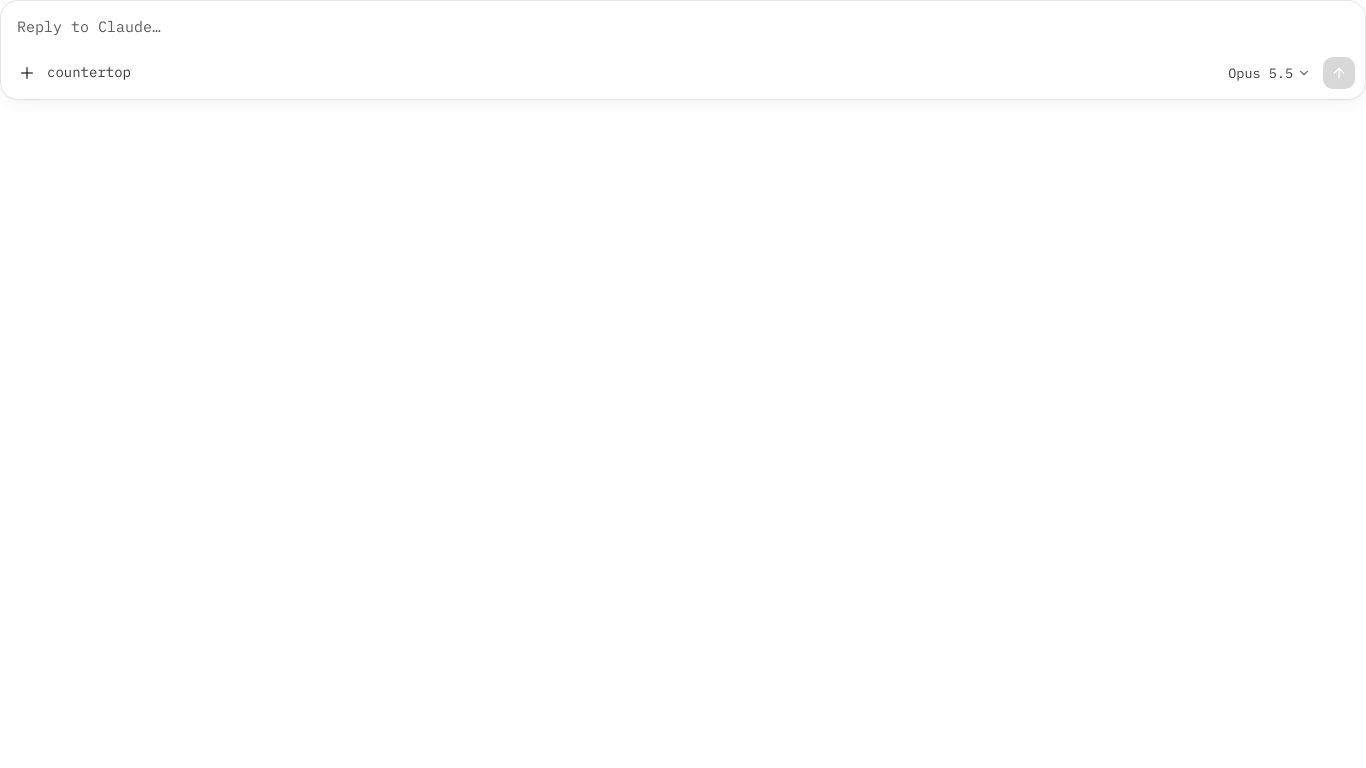
Test: the + menu › opens upward with a search box, grouped Checks · Outputs · Focus · Model, and estimates
Click the button named "Add a check or output" at coordinates (27, 73), box top-left (11, 57), bottom-right (43, 89)
(page scrolled)
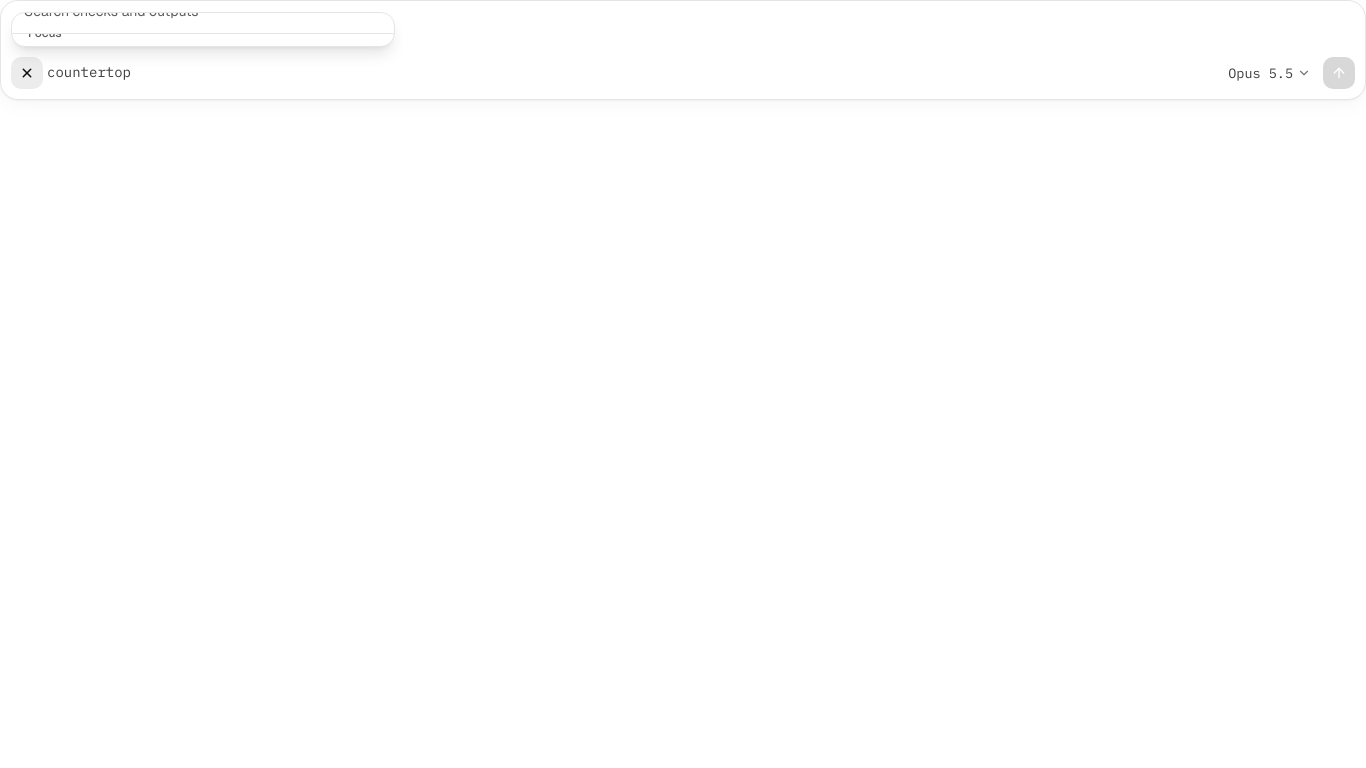
Press Escape
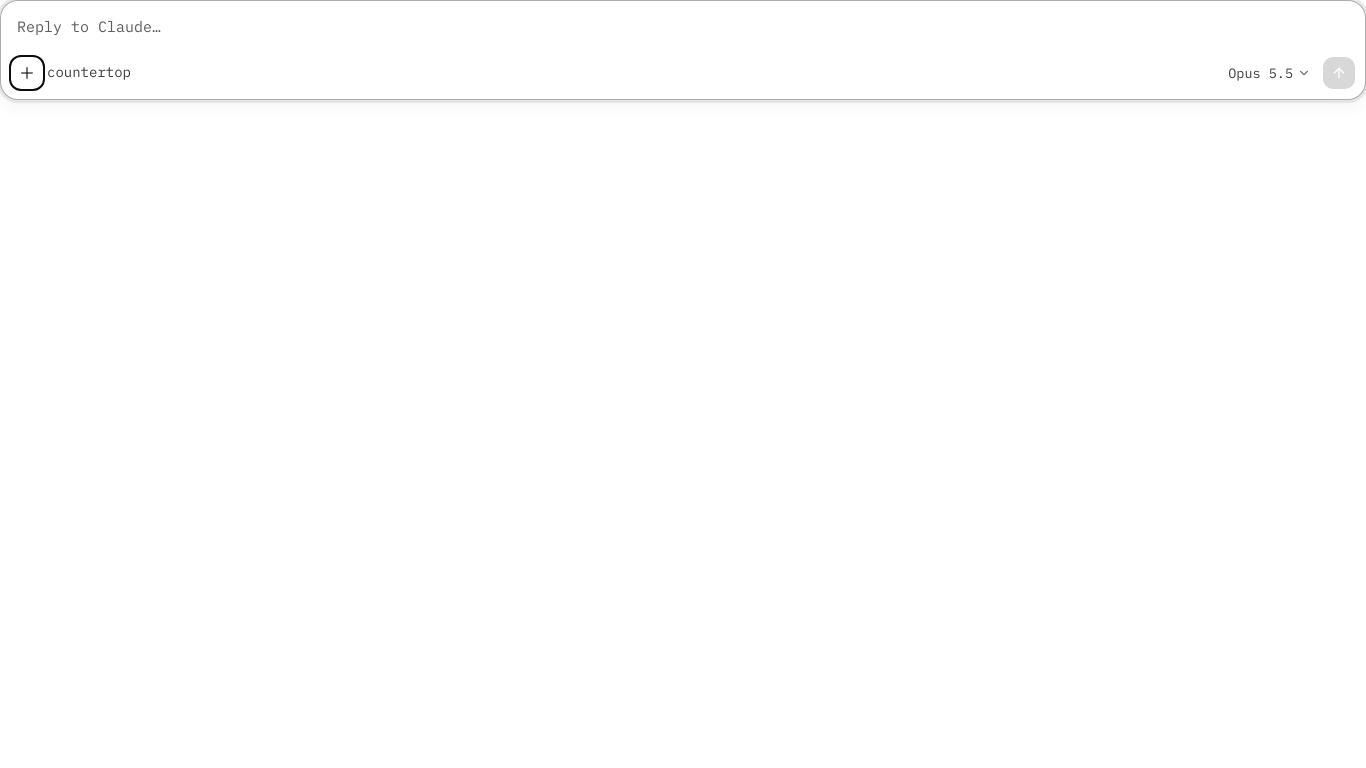
expect the dialog is gone: met
